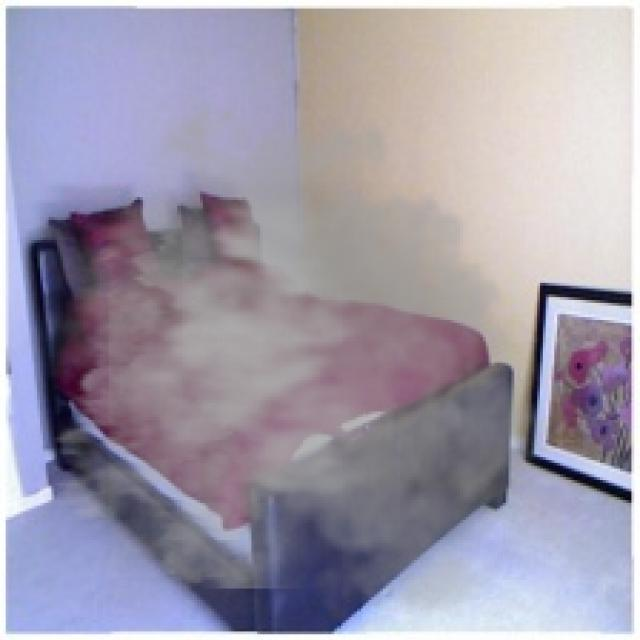Smoke: (11, 86, 566, 628)
